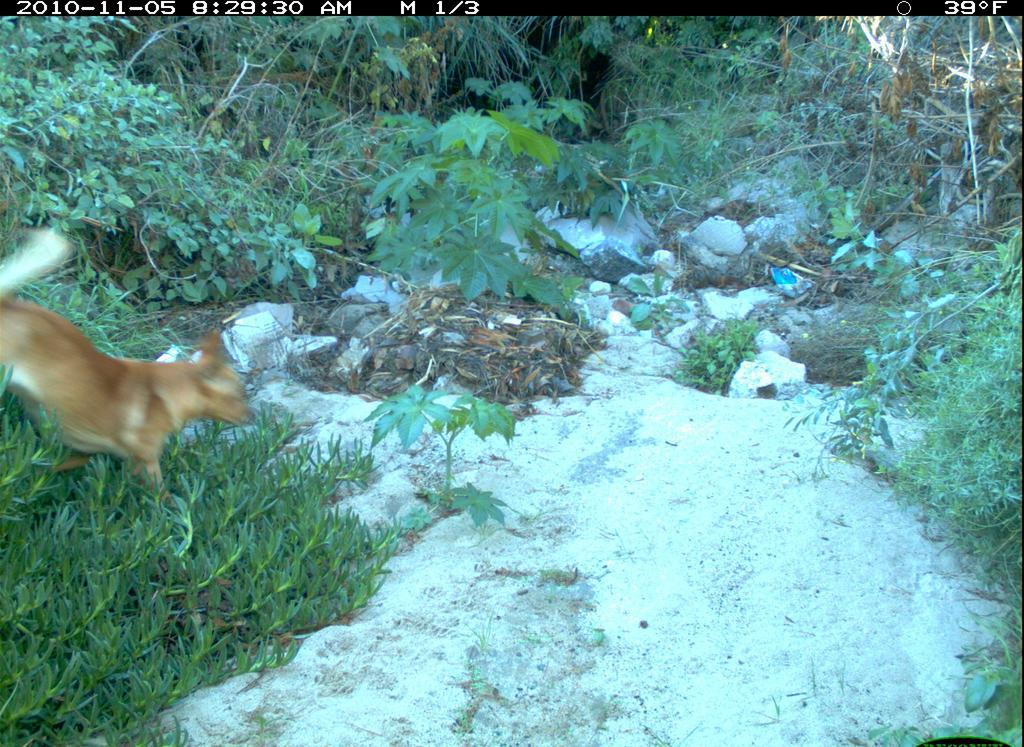dog: (2, 290, 254, 520)
